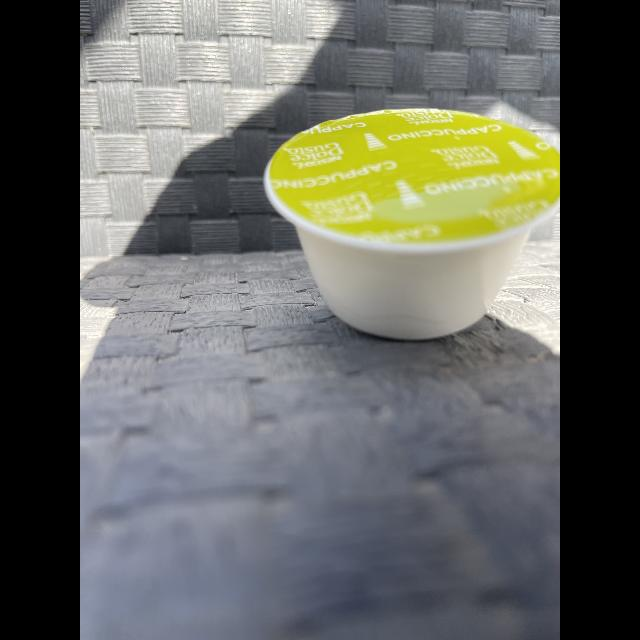intact_capsule: (250, 99, 560, 359)
